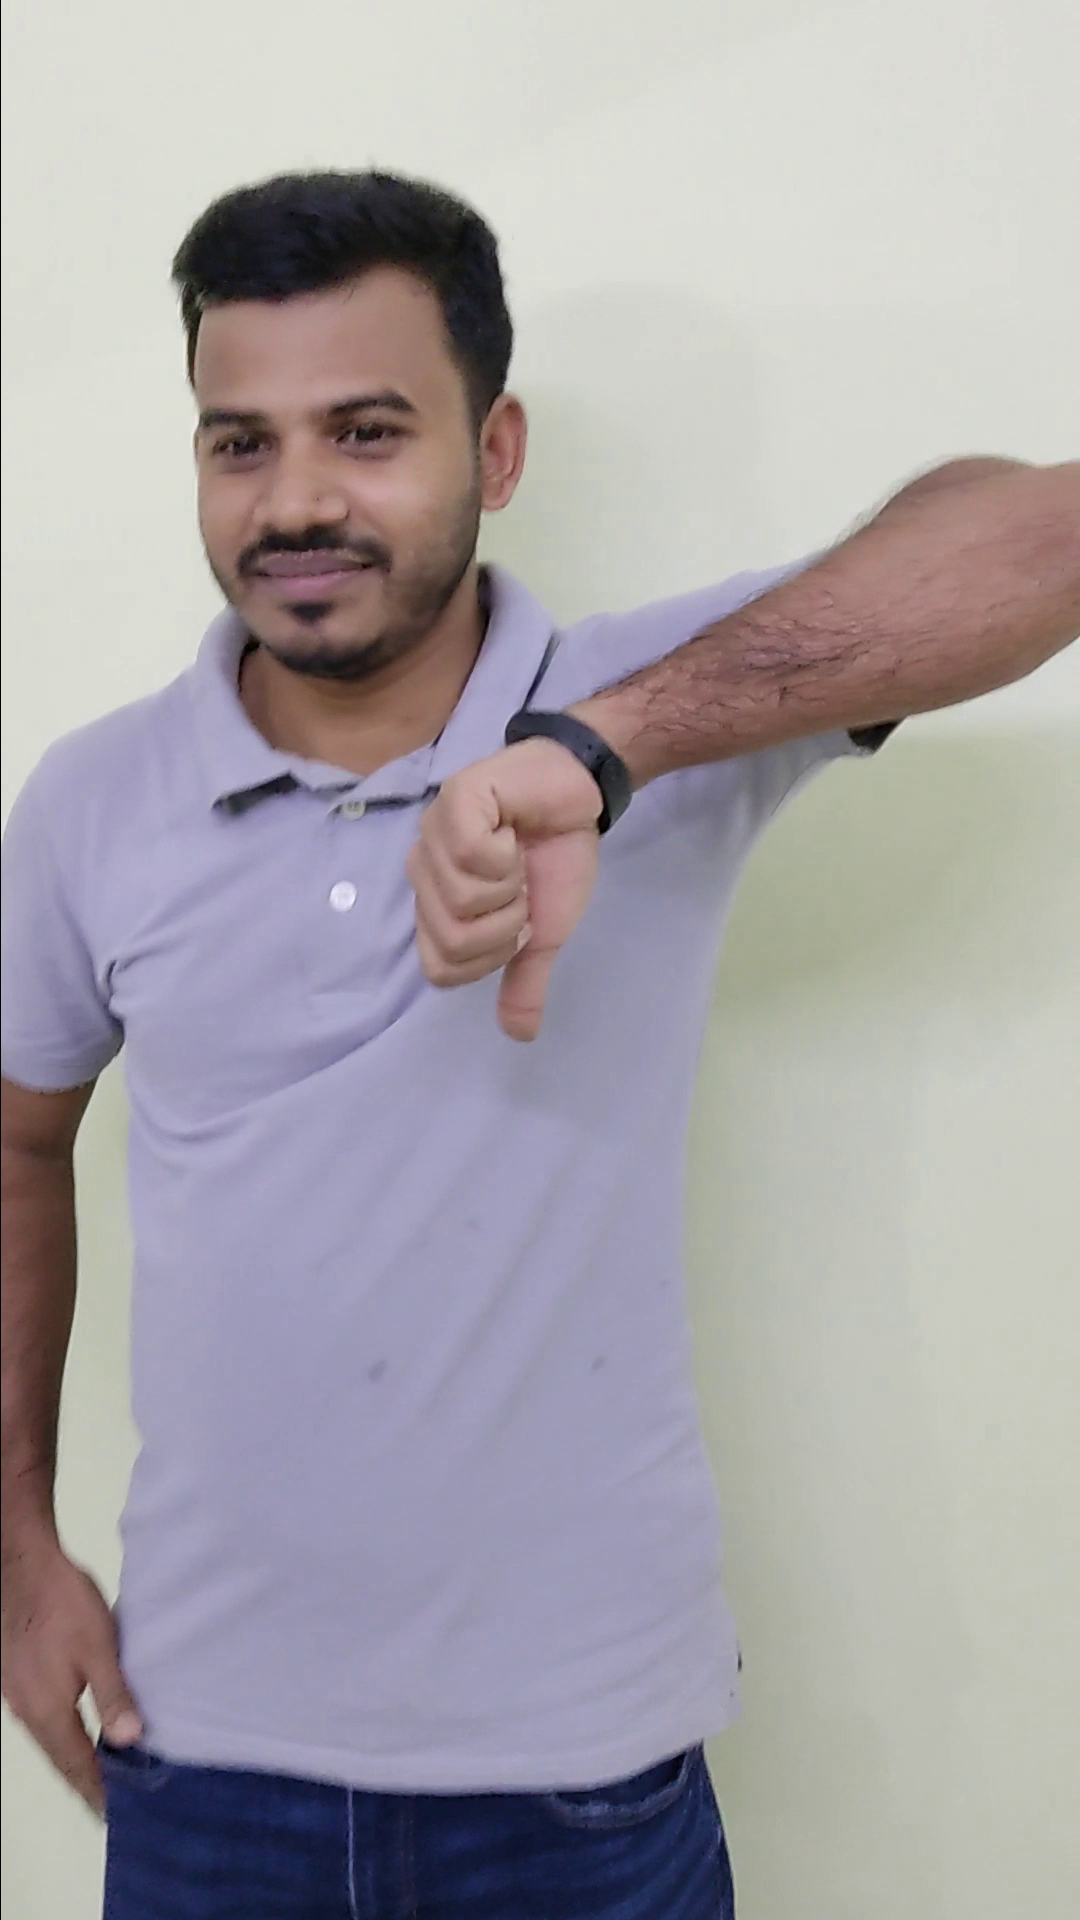Dislike: (394, 716, 622, 1058)
None: (4, 1524, 165, 1828)
